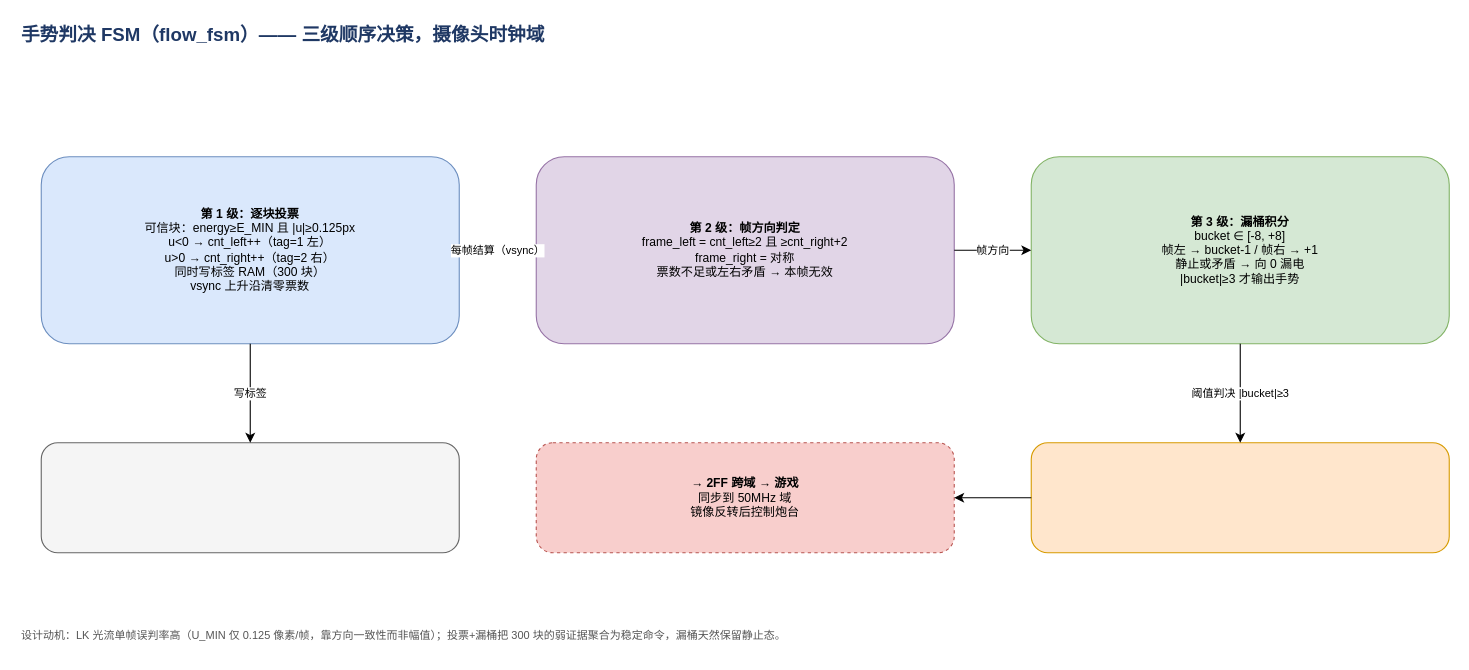
Image size: 1469x670. Some labels were removed from this diagram. The shapes that lost their labels are listed below. From the top down, each one's centre as x and y in pixels, then its label:
At [249,497]: "标签 RAM → 画中画 pclk 写 / 25MHz 读 红=左 绿=右 灰=静止".
At [1239,497]: "输出 gest_left / gest_right（否则静止）".
